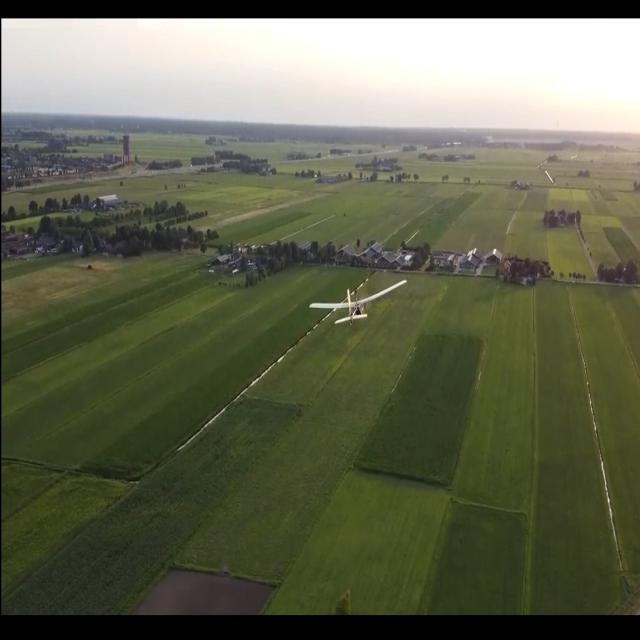iha: (342, 270, 374, 330)
